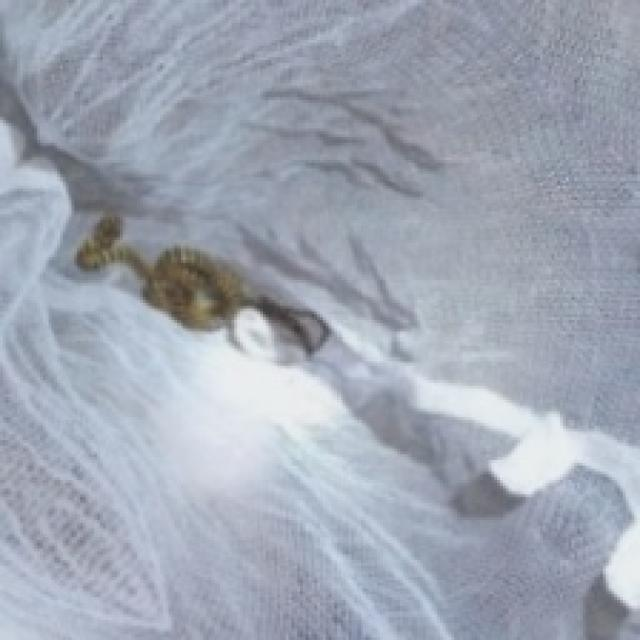mangrove cat snake: (74, 211, 329, 351)
